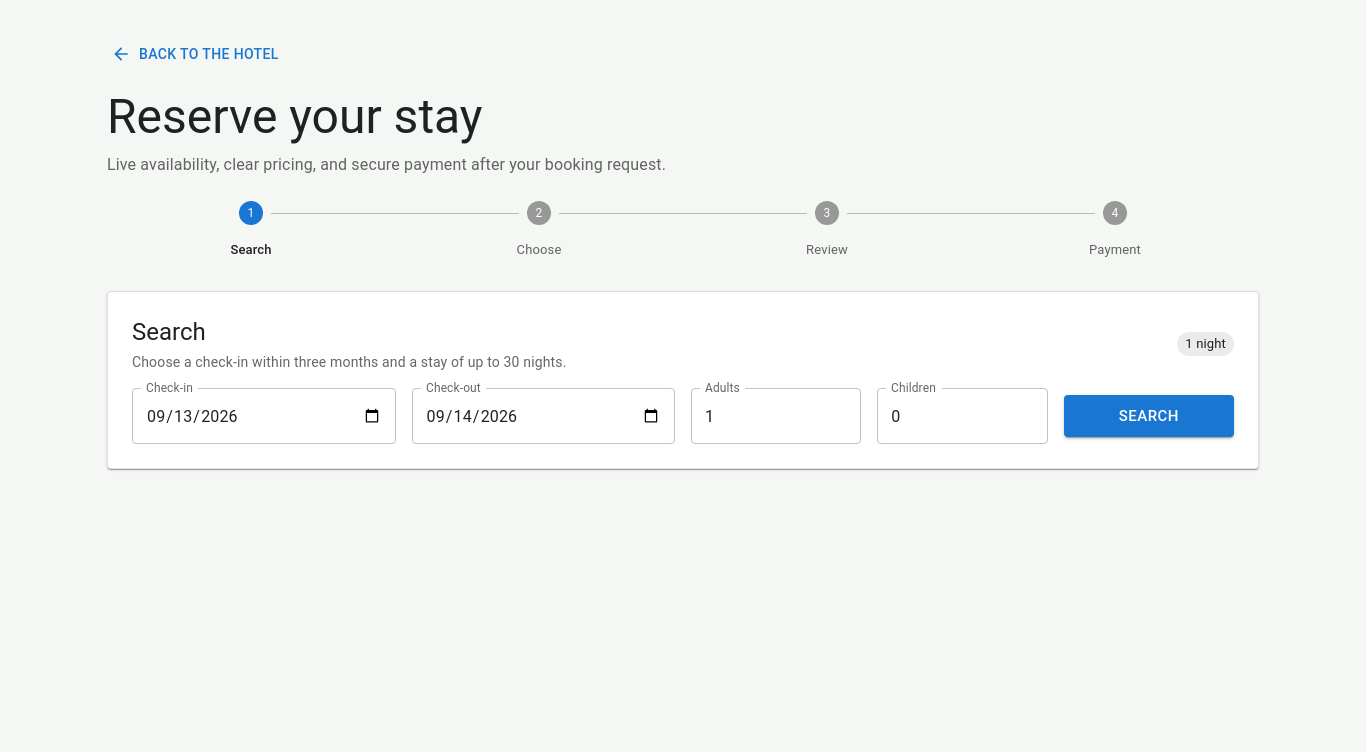
Test case: PortalBookingPage anonymous checkout › collects contact details in place of the account profile
Click the button "Search" at (1149, 416), box [1064,395,1234,437]
(page scrolled)
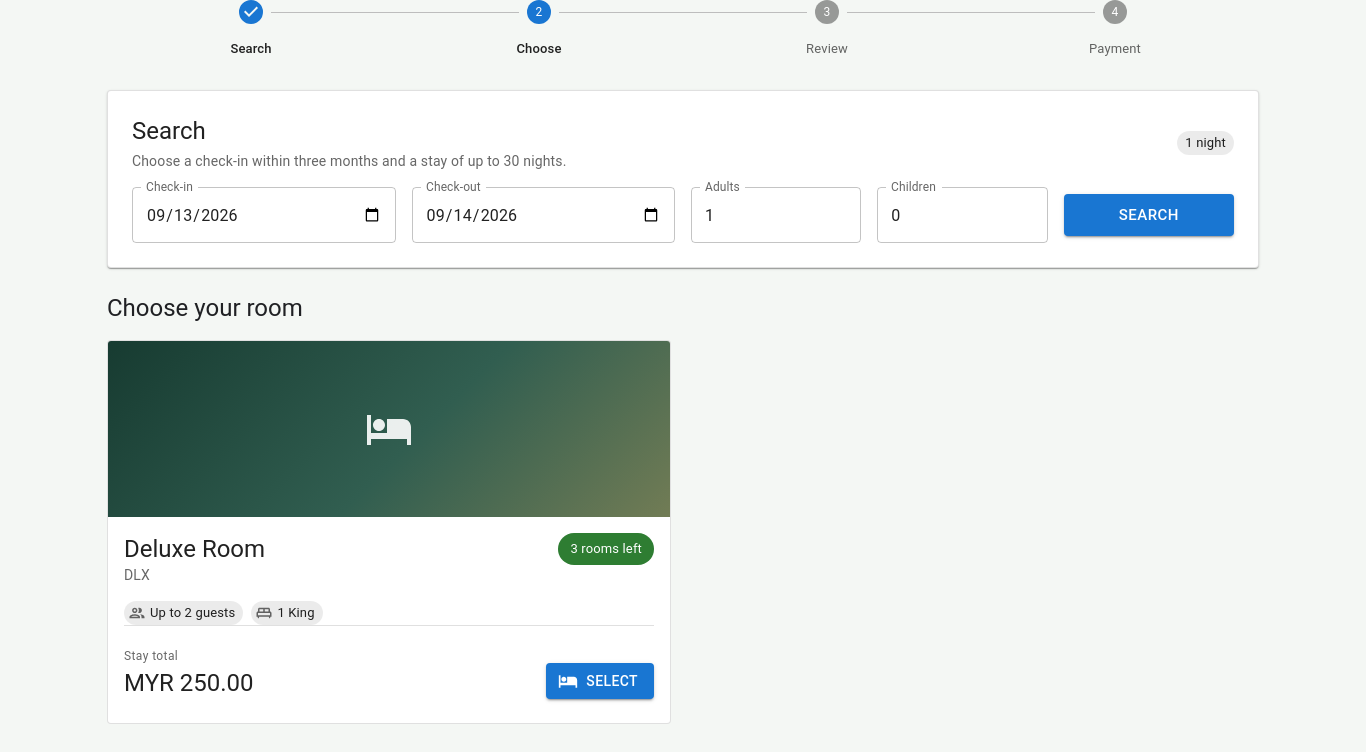
Click the button "Select" at (600, 681), box [546,663,654,699]
(page scrolled)
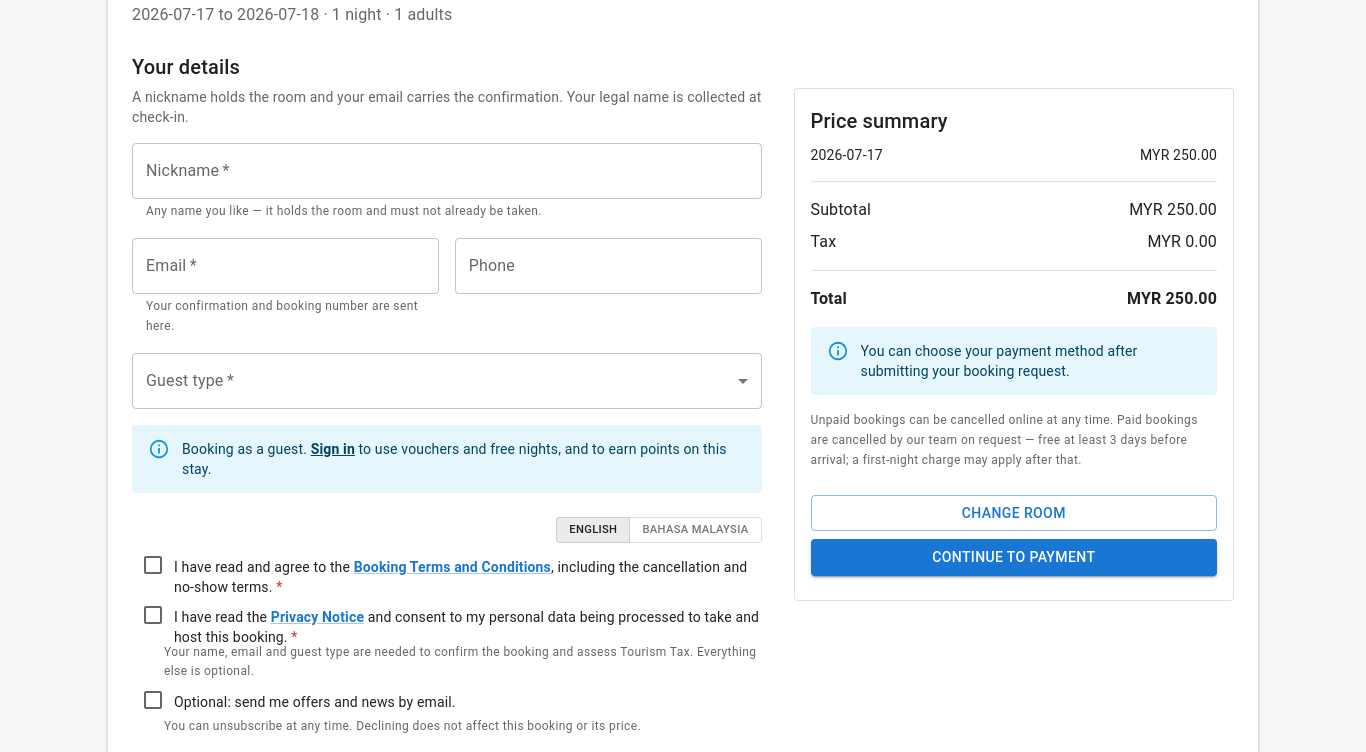
Result: the field labelled "Nickname *" is shown at [132,143,762,199]
Result: the field labelled "Email *" is shown at [132,238,439,294]
Result: the dropdown named "Guest type" is shown at [132,353,762,409]
